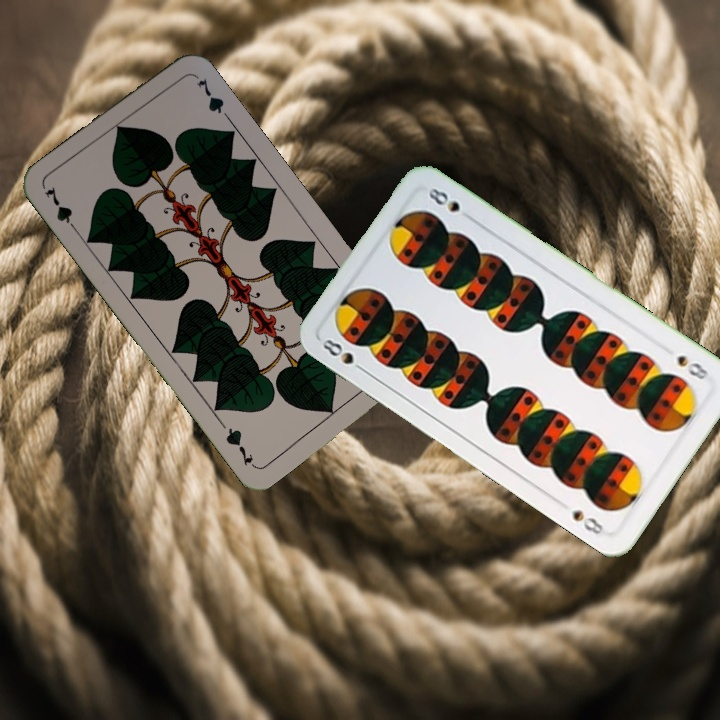G7: (41, 182, 82, 236)
S8: (318, 335, 370, 376), (673, 351, 712, 383)
